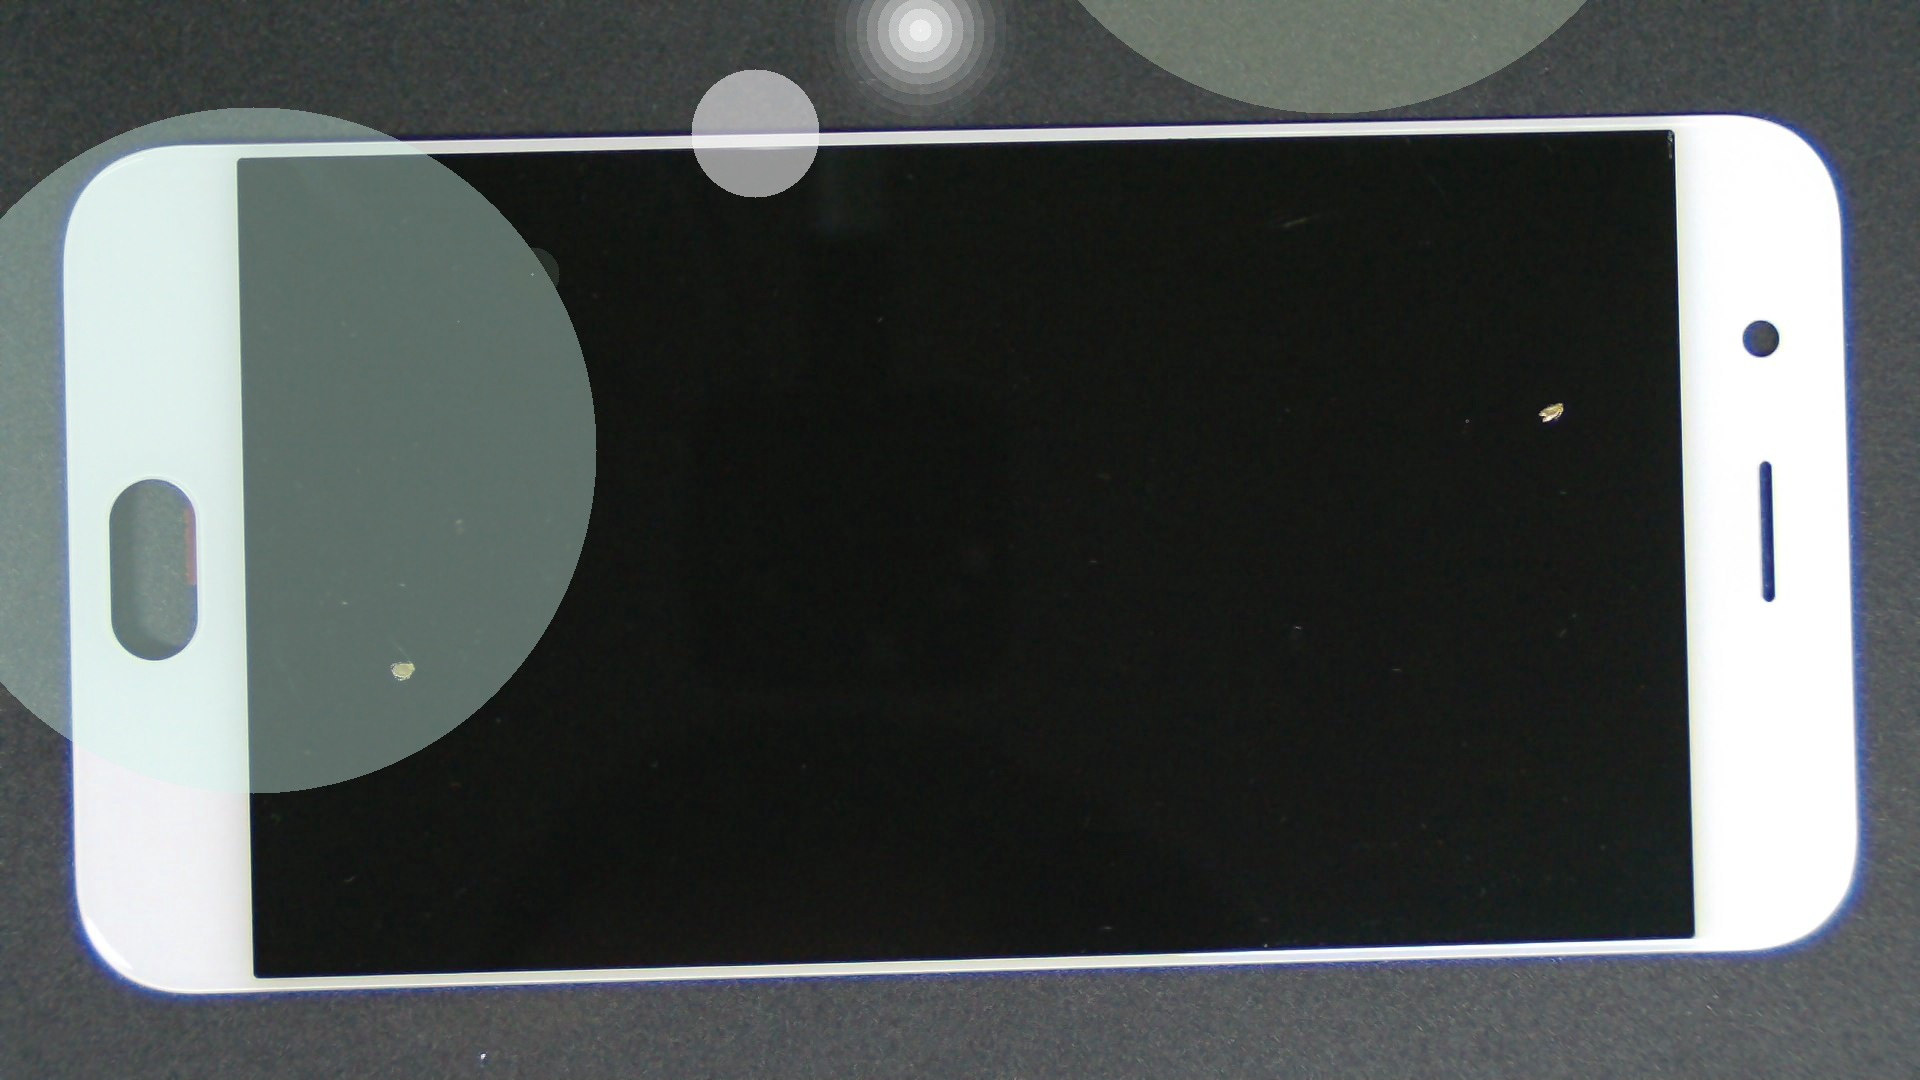oil: (782, 200, 1920, 603), (199, 330, 593, 992)
